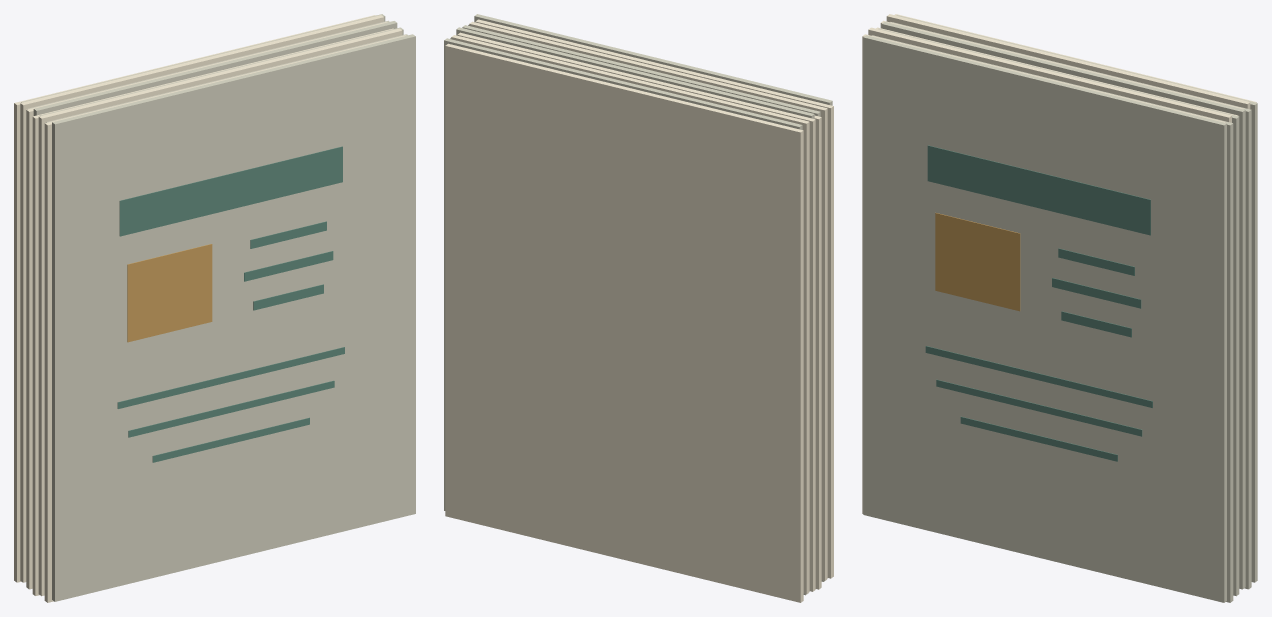
The model's file is flyer_stack.glb.
3 renders of one model, left to right at view 1: azimuth 30°, elevation 25°; view 2: azimuth 150°, elevation 25°; view 3: azimuth 330°, elevation 25°, orthographic.
Parts seen in each view (by area): view 1: Sheet.011, Heading, Highlight, Sheet.008, Sheet.002, Sheet.010, Sheet.004, Sheet, Sheet.006, Sheet.005, Copy, Copy.001 (+6 smaller); view 2: Sheet, Sheet.008, Sheet.002, Sheet.004, Sheet.010, Sheet.006, Sheet.001, Sheet.005, Sheet.011, Sheet.007; view 3: Sheet.011, Heading, Highlight, Sheet.005, Sheet.001, Sheet.007, Sheet.003, Sheet.009, Sheet.002, Sheet.008, Copy, Copy.001 (+6 smaller).
Part boxes in pixels (x1,y1,x2,y2): Sheet.011: (52,34,415,601); Heading: (119,146,342,236); Highlight: (127,244,212,342); Sheet.008: (38,28,402,596); Sheet.002: (20,15,383,582); Sheet.010: (44,35,405,602); Sheet.004: (26,22,387,589); Sheet: (14,15,375,582); Sheet.006: (32,28,393,595); Sheet.005: (33,21,397,115); Copy: (117,347,344,408); Copy.001: (128,380,334,437); Sheet: (445,43,803,602); Sheet.008: (469,21,827,580); Sheet.002: (451,35,809,593); Sheet.004: (457,32,815,591); Sheet.010: (475,19,833,578); Sheet.006: (814,115,821,589); Sheet.001: (444,38,802,510); Sheet.005: (456,27,814,118); Sheet.011: (474,14,832,105); Sheet.007: (462,25,820,116); Sheet.011: (863,35,1226,602); Heading: (927,145,1150,235); Highlight: (935,212,1020,311); Sheet.005: (881,22,1245,589); Sheet.001: (896,15,1257,582); Sheet.007: (878,28,1239,596); Sheet.003: (890,22,1251,589); Sheet.009: (872,35,1233,602); Sheet.002: (886,14,1250,109); Sheet.008: (868,27,1231,122); Copy: (925,346,1152,407); Copy.001: (936,379,1142,436).
Size of the model in its own units: 0.172 by 0.217 by 0.0302.
